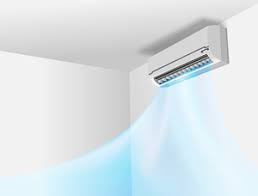ac: (145, 22, 230, 89)
